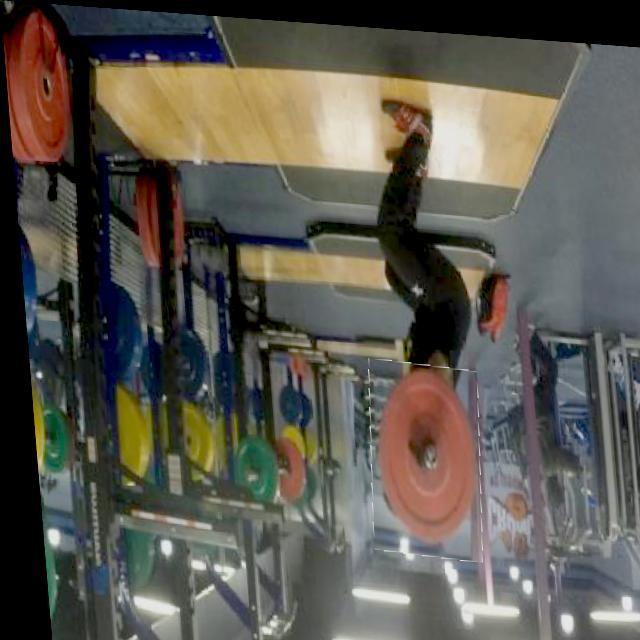barbell: (357, 354, 482, 555)
